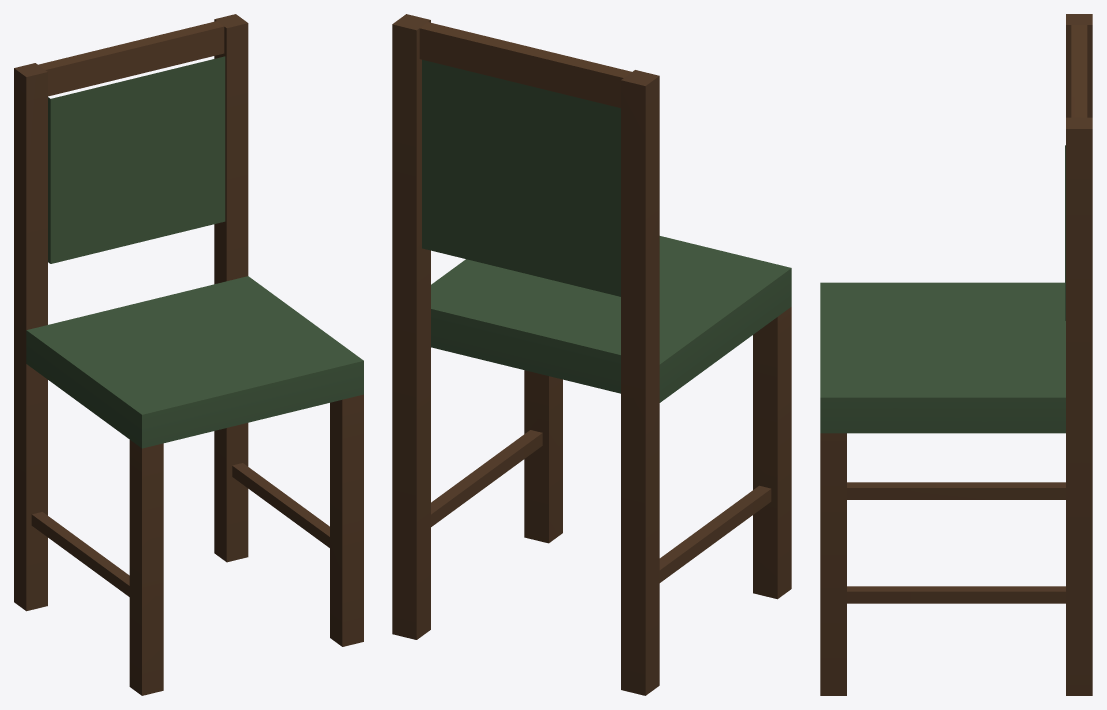
File: seat.chair_cushion.green.glb
The picture shows the model from 3 angles, left to right: view 1: azimuth 30°, elevation 25°; view 2: azimuth 150°, elevation 25°; view 3: azimuth 270°, elevation 25°; orthographic projection. The views are drawn at different scales.
Visible parts, largest first — view 1: seat_chair_cushion_green; view 2: seat_chair_cushion_green; view 3: seat_chair_cushion_green.
Boxes of the visible parts, x1,y1,x2,y2 form: seat_chair_cushion_green: (14, 14, 363, 695); seat_chair_cushion_green: (392, 14, 791, 695); seat_chair_cushion_green: (820, 14, 1092, 695).
Size of what is drawn, in the model's own units: 0.413 by 0.95 by 0.413.
